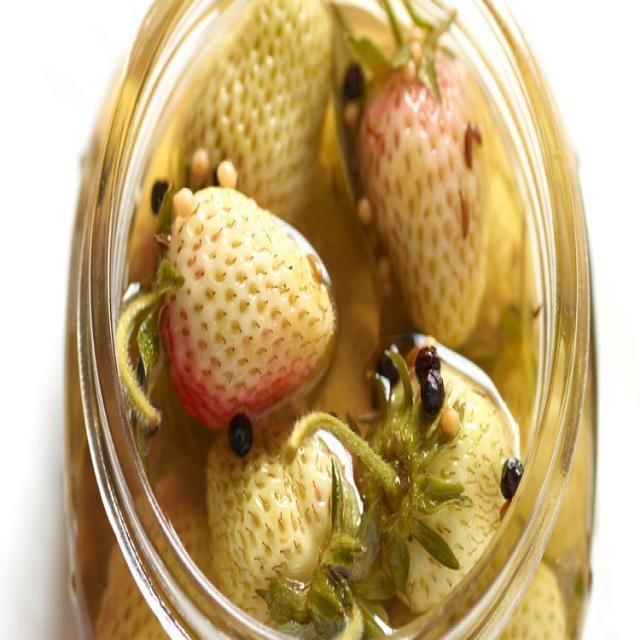strawberry: (158, 188, 336, 422), (359, 55, 492, 346), (370, 358, 518, 606), (206, 430, 361, 622), (190, 2, 334, 198)
